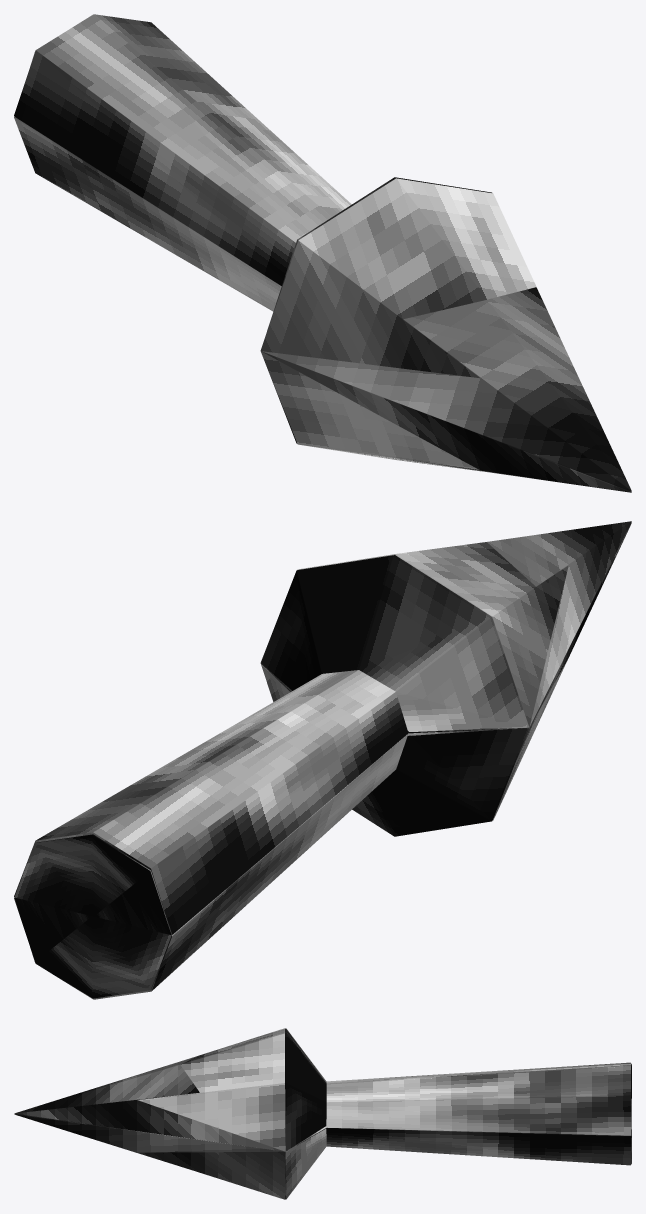
File: projGEnergy.fbx
3 views of the same model, one above another, from view 1: azimuth 30°, elevation 25°; view 2: azimuth 150°, elevation 25°; view 3: azimuth 270°, elevation 25° (orthographic). The views are drawn at different scales.
Parts seen in each view (by area): view 1: Arrow01 (1), Arrow01; view 2: Arrow01 (1), Arrow01; view 3: Arrow01 (1), Arrow01.
Part boxes in pixels (x1,y1,x2,y2): Arrow01 (1): (14, 14, 631, 492); Arrow01: (14, 52, 631, 491); Arrow01 (1): (14, 522, 631, 998); Arrow01: (14, 521, 631, 999); Arrow01 (1): (14, 1028, 631, 1199); Arrow01: (14, 1028, 631, 1199).
Size of the model in its own units: 0.0877 by 0.0877 by 0.3047.
1 material, 1 textured.
